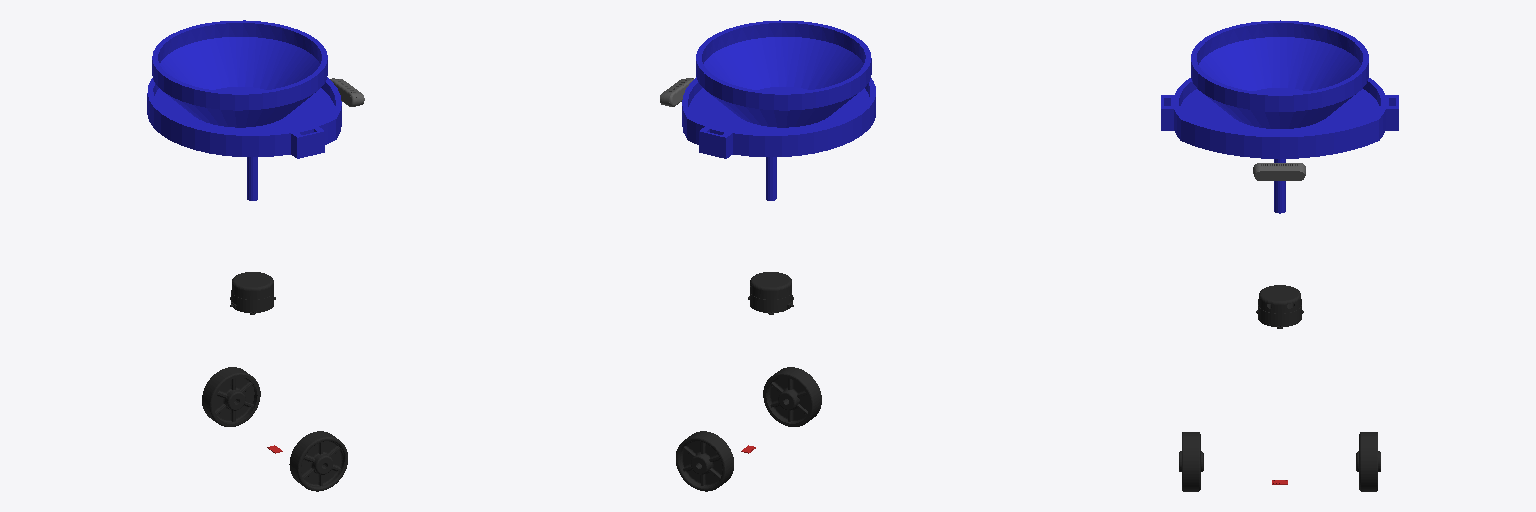
The robot description file, URDF, robot "serving_robot_v6":
<?xml version="1.0" encoding="utf-8"?>

<robot name="serving_robot_v6">
<!--########## LINK ############  -->
  <!-- BASE LINK -->
  <link name="base_link">
    <visual>
      <origin xyz="0 0 0" rpy="0 0 0"/>
      <geometry>
        <mesh filename="package://serving_robot_v6/description/meshes/stl/base_link.STL"/>
      </geometry>
      <!-- <material name="Aluminum"> -->
      <material name="">
        <color rgba="0.48235 0.55686 0.66274 1"/>
      </material>
    </visual>

    <collision>
      <origin xyz="0 0 0" rpy="0 0 0"/>
      <geometry>
        <mesh filename="package://serving_robot_v6/description/meshes/stl/base_link.STL"/>
      </geometry>
    </collision>
  
    <inertial>
      <origin xyz="-7.8612E-05 1.9563E-05 0.33741" rpy="0 0 0"/>
      <mass value="22.641"/>
      <inertia
        ixx="0.4011" ixy="0.00069093" ixz="0.0042126"
        iyy="0.40432" iyz="0.0005165"
        izz="0.61015"/>
    </inertial>
  </link>

  <!-- WHEEL LEFT -->
  <link name="wheel_l">
    <visual>
      <origin xyz="0 0 0" rpy="0 0 0"/>
      <geometry>
        <mesh filename="package://serving_robot_v6/description/meshes/stl/wheel_l.STL"/>
      </geometry>
      <material name="">
        <color rgba="0.2 0.2 0.2 1"/>
      </material>
    </visual>
    <collision>
      <origin xyz="0 0 0" rpy="0 0 0"/>
      <geometry>
        <mesh filename="package://serving_robot_v6/description/meshes/stl/wheel_l.STL"/>
      </geometry>
    </collision>

    <inertial>
      <origin
        xyz="-3.456E-05 -4.0024E-05 9.0639E-09" rpy="0 0 0"/>
      <mass value="0.16934"/>
      <inertia 
        ixx="0.00012279" ixy="-3.8895E-08" ixz="-3.5374E-11"
        iyy="0.00022153" iyz="4.4153E-12"
        izz="0.00012262"/>
    </inertial>
  </link>

  <!--WHEEL RIGHT  -->
  <link name="wheel_r">
    <visual>
      <origin xyz="0 0 0" rpy="0 0 0"/>
      <geometry>
        <mesh filename="package://serving_robot_v6/description/meshes/stl/wheel_r.STL"/>
      </geometry>
      <material name="">
        <color rgba="0.2 0.2 0.2 1"/>
      </material>
    </visual>
    <collision>
      <origin xyz="0 0 0" rpy="0 0 0"/>
      <geometry>
        <mesh filename="package://serving_robot_v6/description/meshes/stl/wheel_r.STL"/>
      </geometry>
    </collision>

    <inertial>
      <origin
        xyz="3.456E-05 4.0024E-05 9.0639E-09"
        rpy="0 0 0"/>
      <mass
        value="0.16934"/>
      <inertia
        ixx="0.00012279" ixy="-3.8895E-08" ixz="3.5374E-11"
        iyy="0.00022153" iyz="-4.4153E-12"
        izz="0.00012262"/>
    </inertial>
  </link>

  <!-- IMU LINK  -->
  <link name="imu_link">
    <visual>
      <origin xyz="0 0 0" rpy="0 0 0"/>
      <geometry>
        <mesh filename="package://serving_robot_v6/description/meshes/stl/imu_link.STL" />
      </geometry>
      <material name="">
        <color rgba="0.8 0.2 0.2 1" />
      </material>
    </visual>
    <collision>
      <origin xyz="0 0 0" rpy="0 0 0" />
      <geometry>
        <mesh filename="package://serving_robot_v6/description/meshes/stl/imu_link.STL" />
      </geometry>
    </collision>

    <inertial>
      <origin xyz="0.00017054 4.0567E-06 -0.0008002" rpy="0 0 0"/>
      <mass value="0.0007049"/>
      <inertia
        ixx="3.8373E-08" ixy="6.0153E-10" ixz="-9.6839E-13"
        iyy="1.3756E-08" iyz="-3.9573E-14"
        izz="5.1829E-08"/>
    </inertial>
  </link>

  <!-- CAMERA LINK -->
  <link name="camera_link">
    <visual>
      <origin xyz="0 0 0" rpy="0 0 0" />
      <geometry>
        <mesh filename="package://serving_robot_v6/description/meshes/stl/camera_link.STL" />
      </geometry>
      <material name="">
        <color rgba="0.4 0.4 0.4 1" />
      </material>
    </visual>
    <collision>
      <origin xyz="0 0 0" rpy="0 0 0" />
      <geometry>
        <mesh filename="package://serving_robot_v6/description/meshes/stl/camera_link.STL" />
      </geometry>
    </collision>

    <inertial>
      <origin xyz="-0.012548 -0.0022933 -6.051E-05" rpy="0 0 0" />
      <mass value="0.044752" />
      <inertia
        ixx="2.7277E-05" ixy="2.4434E-07" ixz="-1.1647E-09"
        iyy="3.9447E-06" iyz="-2.7841E-09"
        izz="2.7362E-05" />
    </inertial>
  </link>

  <!-- Laser Link -->
  <link name="laser_link">
    <visual>
      <origin xyz="0 0 0" rpy="0 0 0" />
      <geometry>
        <mesh filename="package://serving_robot_v6/description/meshes/stl/laser_link.STL" />
      </geometry>
      <material name="">
        <color rgba="0.2 0.2 0.2 1" />
      </material>
    </visual>
    <collision>
      <origin xyz="0 0 0" rpy="0 0 0" />
      <geometry>
        <mesh filename="package://serving_robot_v6/description/meshes/stl/laser_link.STL" />
      </geometry>
    </collision>

    <inertial>
      <origin xyz="0.0012332 0.00013829 -0.010655" rpy="0 0 0" />
      <mass value="0.18368" />
      <inertia
        ixx="6.732E-05" ixy="3.5606E-07" ixz="1.6764E-08" 
        iyy="6.7746E-05" iyz="2.9723E-08"
        izz="0.000122"/>
    </inertial>
  </link>

  <!-- Serving LInk  -->
  <link name="serv_link">
    <visual>
      <origin xyz="0 0 0" rpy="0 0 0" />
      <geometry>
        <mesh filename="package://serving_robot_v6/description/meshes/stl/serv_link.STL" />
      </geometry>
      <material name="">
        <color rgba="0.2 0.2 0.8 1" />
      </material>
    </visual>
    <collision>
      <origin xyz="0 0 0" rpy="0 0 0" />
      <geometry>
        <mesh filename="package://serving_robot_v6/description/meshes/stl/serv_link.STL" />
      </geometry>
    </collision>

    <inertial>
      <origin xyz="-0.01805 3.5331E-15 0.18866" rpy="0 0 0" />
      <mass value="3.0044" />
      <inertia
        ixx="0.02873" ixy="-1.2426E-15" ixz="-1.6433E-05"
        iyy="0.022603" iyz="-3.1532E-18"
        izz="0.048874"/>
    </inertial>
  </link>

  <!-- Golf Ball link  -->
  <link name="golf_link">
    <visual>
      <origin xyz="0 0 0" rpy="0 0 0" />
      <geometry>
        <mesh filename="package://serving_robot_v6/description/meshes/stl/golf_link.STL" />
      </geometry>
      <material name="">
        <color rgba="0 0 0 1" />
      </material>
    </visual>
    <collision>
      <origin xyz="0 0 0" rpy="0 0 0" />
      <geometry>
        <mesh filename="package://serving_robot_v6/description/meshes/stl/golf_link.STL" />
      </geometry>
    </collision>

    <inertial>
      <origin xyz="-0.0020918 -0.0005473 -0.0034191" rpy="0 0 0" />
      <mass value="2.0441" />
      <inertia
        ixx="0.00032706" ixy="-1.6147E-21" ixz="1.0146E-21"
        iyy="0.00032706" iyz="5.8585E-21"
        izz="0.00032706" />
    </inertial>
  </link>

<!-- ############ JOINT ############  -->
  <!-- WHEEL LEFT JOINT -->
  <joint name="base_to_wheel_l" type="continuous">
    <origin xyz="0.044 0.1495 0.05" rpy="0 0 0" />
    <parent link="base_link" />
    <child link="wheel_l" />
    <axis xyz="0 1 0" />
<!--     <dynamics
      friction="0.8"
      damping="0.7" /> -->    
  </joint>

  <joint name="base_to_wheel_r" type="continuous">
    <origin xyz="0.044 -0.1495 0.05" rpy="0 0 0" />
    <parent link="base_link" />
    <child link="wheel_r" />
    <axis xyz="0 1 0" />
<!--     <dynamics
      friction="0.8"
      damping="0.7" /> --> 
  </joint>

  <joint name="imu_joint" type="fixed">
    <origin xyz="0.043908 0 0.0128" rpy="0 0 0" />
    <parent link="base_link" />
    <child link="imu_link" />
    <axis xyz="0 0 0" />
  </joint>


  <joint name="laser_joint" type="fixed">
    <origin xyz="-0.0017465 -0.00025802 0.32884" rpy="0 0 0" />
    <parent link="base_link" />
    <child link="laser_link" />
    <axis xyz="0 0 0" />
  </joint>

  <joint name="camera_joint" type="fixed">
    <origin xyz="0.19478 0.0020796 0.64986" rpy="0 0.17077 0" />
    <parent link="base_link" />
    <child link="camera_link" />
    <axis xyz="0 0 0" />
  </joint>

  <joint name="serv_joint" type="prismatic">
    <origin xyz="0 0 0.494" rpy="0 0 0" />
    <parent link="base_link" />
    <child link="serv_link" />
    <axis xyz="0 0 1" />
    <limit lower="0" upper="0" effort="0" velocity="0" />
  </joint>

  <joint name="golf_joint" type="fixed">
    <origin xyz="-0.025 0 0.251" rpy="0 0 0" />
    <parent link="serv_link" />
    <child link="golf_link" />
    <axis xyz="0 0 0" />
  </joint>

<!-- ###### Gazebo ###### -->
   <gazebo reference="base_link">
     <mu1>0.005</mu1>
     <mu2>0.005</mu2>
     <!-- <material>Gazebo/Brown</material> -->
   </gazebo>

   <gazebo reference="whee_l">
     <mu1>0.5</mu1>
     <mu2>0.5</mu2>
     <kp>500000.0</kp>
     <kd>10.0</kd>
     <!-- <material>Gazebo/Black</material> -->
    </gazebo>

   <gazebo reference="wheel_r">
     <mu1>0.5</mu1>
     <mu2>0.5</mu2>
     <kp>500000.0</kp>
     <kd>10.0</kd>
     <!-- <material>Gazebo/Black</material> -->
   </gazebo>

    <gazebo>
    <plugin name="differential_drive_controller" filename="libgazebo_ros_diff_drive.so">
        <alwaysOn>true</alwaysOn>
        <updateRate>20</updateRate>
        <legacyMode>false</legacyMode>
        <leftJoint>base_to_wheel_l</leftJoint>
        <rightJoint>base_to_wheel_r</rightJoint>
        <wheelSeparation>0.3</wheelSeparation>
        <wheelDiameter>0.1</wheelDiameter>
        <wheelTorque>20</wheelTorque>
        <wheelAcceleration>1</wheelAcceleration>
        <commandTopic>cmd_vel</commandTopic>
        <odometryTopic>odom</odometryTopic>
        <odometryFrame>odom</odometryFrame>
        <odometrySource>world</odometrySource>
        <publishOdomTF>true</publishOdomTF>
        <publishWheelJointState>true</publishWheelJointState>
        <publishWheelTF>false</publishWheelTF>
        <publishTf>true</publishTf>
        <robotBaseFrame>base_link</robotBaseFrame>
        <rosDebugLevel>na</rosDebugLevel>
    </plugin>
  </gazebo>

  <gazebo reference="camera_link">
     <sensor type = "camera" name = "camera1">
           <update_rate>30.0</update_rate>
           <camera name = "head">
             <horizontal_fov>1.3962634</horizontal_fov>
             <image>
               <width>800</width>
               <height>600</height>
               <format>R8G8B8</format>
         </image>
         <clip>
           <near>0.04</near>
           <far>300</far>
         </clip>
         <noise>
           <type>gaussian</type>
           <mean>0.0</mean>
           <stddev>0.007</stddev>
         </noise>
       </camera>

       <plugin name="camera_controller" filename="libgazebo_ros_camera.so">
         <alwaysOn>true</alwaysOn>
         <updateRate>0.0</updateRate>
         <cameraName>camera1</cameraName>
         <imageTopicName>image_raw</imageTopicName>
         <frameName>camera_link</frameName>
         <hackBaseline>0.07</hackBaseline>
         <distortionK1>0.0</distortionK1>
         <distortionK2>0.0</distortionK2>
         <distortionK3>0.0</distortionK3>
         <distortionT1>0.0</distortionT1>
         <distortionT2>0.0</distortionT2>
       </plugin>
      </sensor>
  </gazebo>

  <gazebo reference="laser_link">
    <!-- <material>Gazebo/Black</material> -->
    <sensor type="ray" name="lds_lfcd_sensor">
      <pose>0 0 0 0 0 0 </pose>
      <visualize>true</visualize>
      <update_rate>5</update_rate>
      <ray>
        <scan>
          <horizontal>
            <samples>360</samples>
            <resolution>1</resolution>
            <min_angle>0.0</min_angle>
            <max_angle>6.28319</max_angle>
          </horizontal>
        </scan>
        <!-- ###### here change for mapping ###### -->
        <range>
          <min>0.120</min>
          <max>3.5</max>
          <resolution>0.015</resolution>
        </range>
        <noise>
          <type>gaussian</type>
          <mean>0.0</mean>
          <stddev>0.01</stddev>
        </noise>
      </ray>
      <plugin name="gazebo_ros_lds_lfcd_controller" filename="libgazebo_ros_laser.so">
        <topicName>scan</topicName>
        <frameName>laser_link</frameName>
      </plugin>
    </sensor>
  </gazebo>

  <gazebo reference="imu_link">
    <!-- <material>Gazebo/Red</material> -->
      <gravity>true</gravity> 
    <sensor name="imu_sensor" type="imu">
      <always_on>true</always_on>
      <update_rate>100</update_rate>
      <visualize>true</visualize>
      <topic>__default_topic__</topic>
      <plugin filename="libgazebo_ros_imu_sensor.so" name="imu_plugin">
        <topicName>imu</topicName>
        <bodyName>imu_link</bodyName>
        <updateRateHZ>10.0</updateRateHZ>
        <gaussianNoise>0.0</gaussianNoise>
        <xyzOffset>0 0 0</xyzOffset>
        <rpyOffset>0 0 0</rpyOffset>
        <frameName>imu_to_link</frameName>
        <initialOrientationAsReference>false</initialOrientationAsReference>
      </plugin>
      <pose>0 0 0 0 0 0</pose>
    </sensor>
  </gazebo>
</robot>

--- Render facts (derived) ---
The picture shows the robot from 3 angles, left to right: view 1: azimuth 30°, elevation 25°; view 2: azimuth 150°, elevation 25°; view 3: azimuth 270°, elevation 25°; orthographic projection.
Robot: serving_robot_v6 — 8 links, 7 joints (2 continuous, 1 prismatic, 4 fixed); root link base_link; default pose: all joints at 0.
Links seen in each view (by area): view 1: serv_link, wheel_l, wheel_r, laser_link; view 2: serv_link, wheel_r, wheel_l, laser_link; view 3: serv_link, laser_link, wheel_l, wheel_r, camera_link.
Link boxes in pixels (<box>): serv_link: <box>147,20,341,200</box>; wheel_l: <box>202,367,260,426</box>; wheel_r: <box>289,431,347,491</box>; laser_link: <box>230,272,275,314</box>; serv_link: <box>682,20,875,200</box>; wheel_r: <box>763,367,821,426</box>; wheel_l: <box>676,431,733,491</box>; laser_link: <box>748,272,793,314</box>; serv_link: <box>1161,20,1398,213</box>; laser_link: <box>1256,285,1303,328</box>; wheel_l: <box>1356,432,1380,491</box>; wheel_r: <box>1179,432,1203,491</box>; camera_link: <box>1253,163,1305,180</box>.
Bounding box of the posed robot: 0.377 × 0.4 × 0.7659 m (x, y, z).
Meshes: 8 distinct files referenced, 6 mesh visuals loaded (6 binary STL); not drawn: 2 (reference not matched to a file when rendering).
